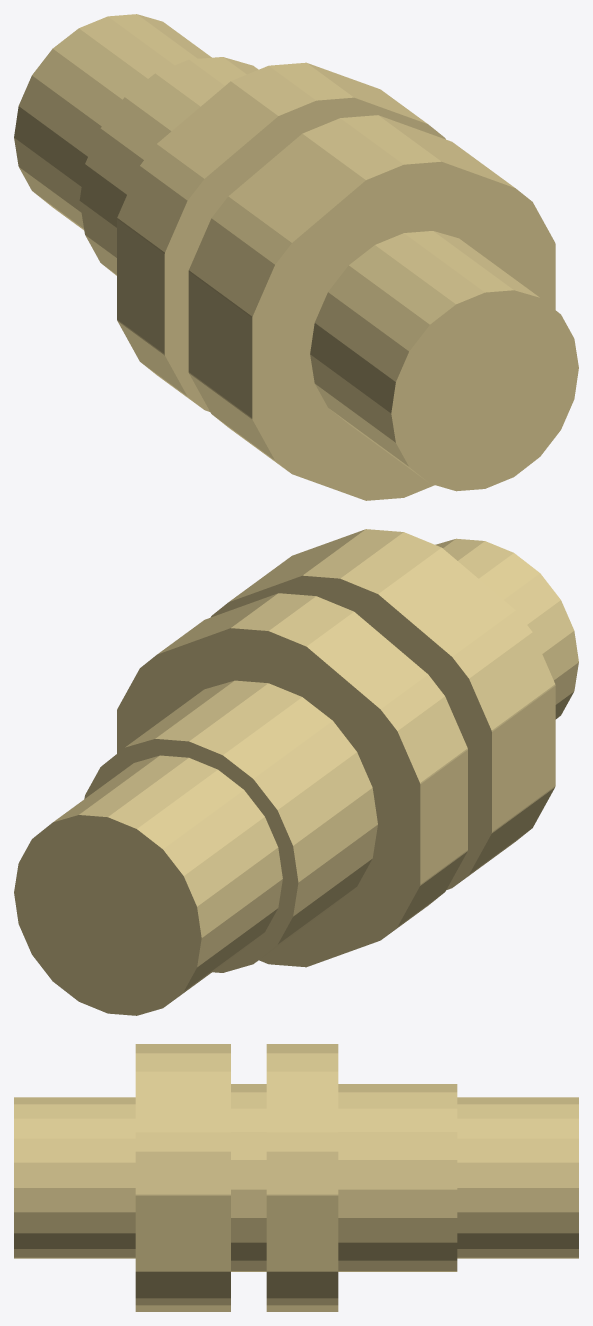
Rendered from nipple-bulkhead-npt.glb.
3 renders of one model, top to bottom at view 1: azimuth 30°, elevation 25°; view 2: azimuth 150°, elevation 25°; view 3: azimuth 270°, elevation 25°, orthographic. The views are drawn at different scales.
Visible parts, largest first — view 1: body, port-a, port-b; view 2: body, port-b, port-a; view 3: body, port-a, port-b.
Part boxes in pixels (x1,y1,x2,y2): body: [79, 57, 555, 500]; port-a: [310, 231, 578, 491]; port-b: [14, 14, 211, 230]; body: [84, 529, 555, 972]; port-b: [14, 755, 282, 1015]; port-a: [435, 538, 578, 719]; body: [135, 1044, 457, 1311]; port-a: [14, 1097, 135, 1258]; port-b: [457, 1097, 578, 1258].
Size of what is drawn, in the model's own units: 0.022 by 0.0231 by 0.0474.
